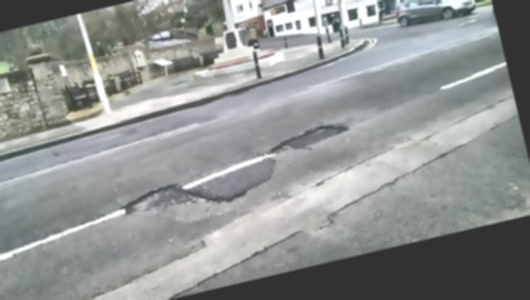pothole: (269, 118, 353, 156), (118, 178, 193, 218)
